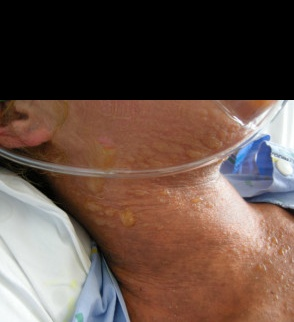SJS-TEN: (30, 91, 291, 258)
